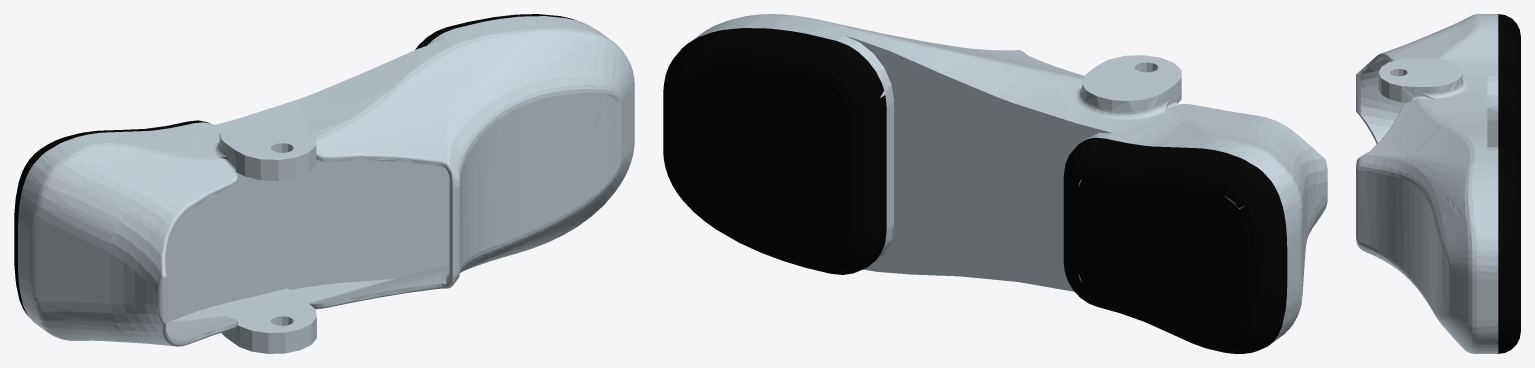
File: left_ankle_pitch_link.dae
The picture shows the model from 3 angles, left to right: view 1: azimuth 30°, elevation 25°; view 2: azimuth 150°, elevation 25°; view 3: azimuth 270°, elevation 25°; orthographic projection. The views are drawn at different scales.
Parts seen in each view (by area): view 1: left_ankle_pitch_link; view 2: left_ankle_pitch_link; view 3: left_ankle_pitch_link.
Part boxes in pixels (x1,y1,x2,y2): left_ankle_pitch_link: [14, 14, 634, 353]; left_ankle_pitch_link: [663, 14, 1327, 353]; left_ankle_pitch_link: [1356, 14, 1520, 353].
Size of the model in its own units: 0.24 by 0.0856 by 0.0733.
